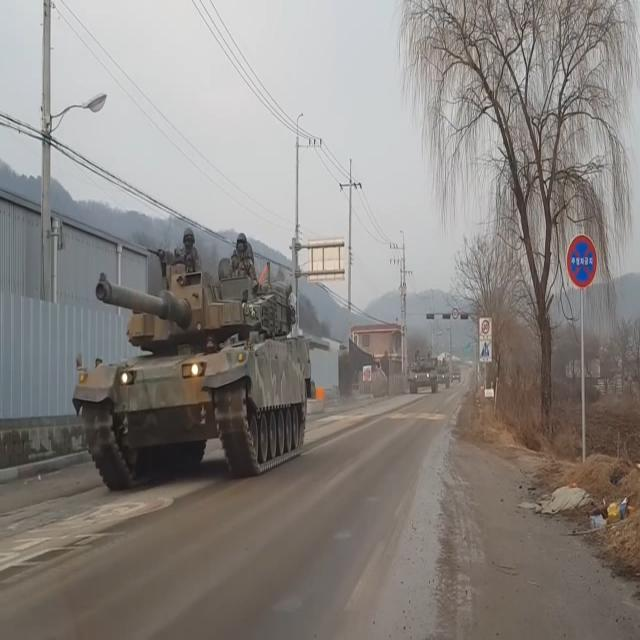korea tank: (68, 223, 316, 500)
